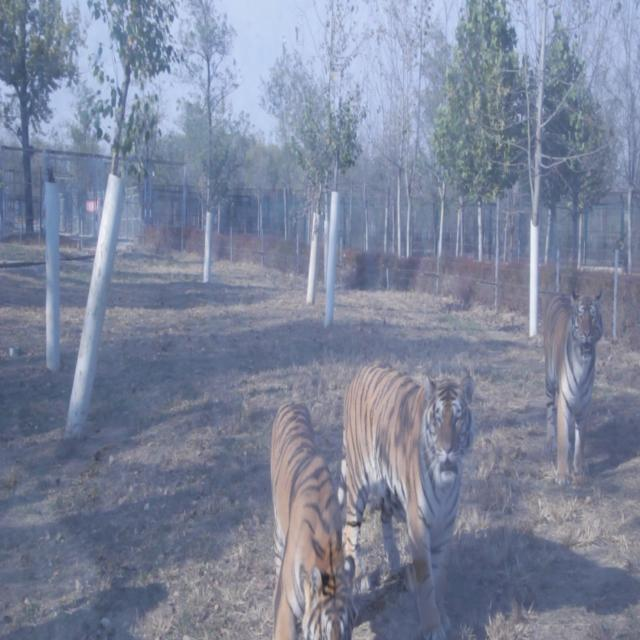Tiger: (331, 360, 481, 640), (266, 396, 366, 639), (534, 270, 611, 501)
